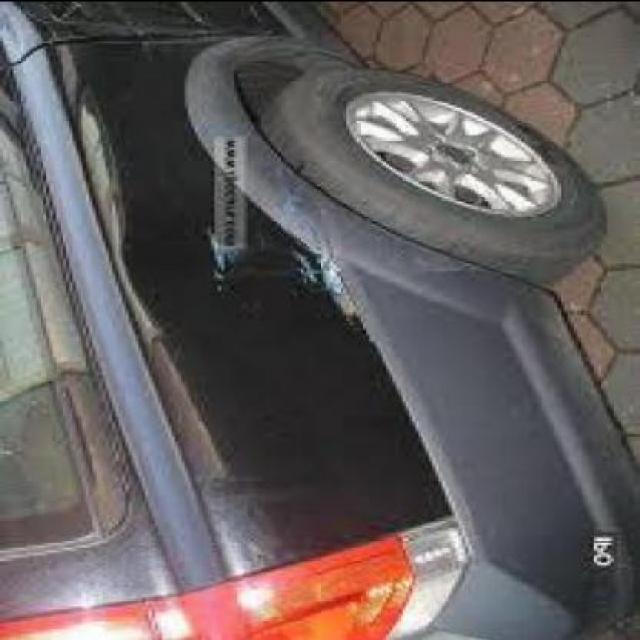damage: (197, 166, 369, 338), (26, 1, 254, 54)
